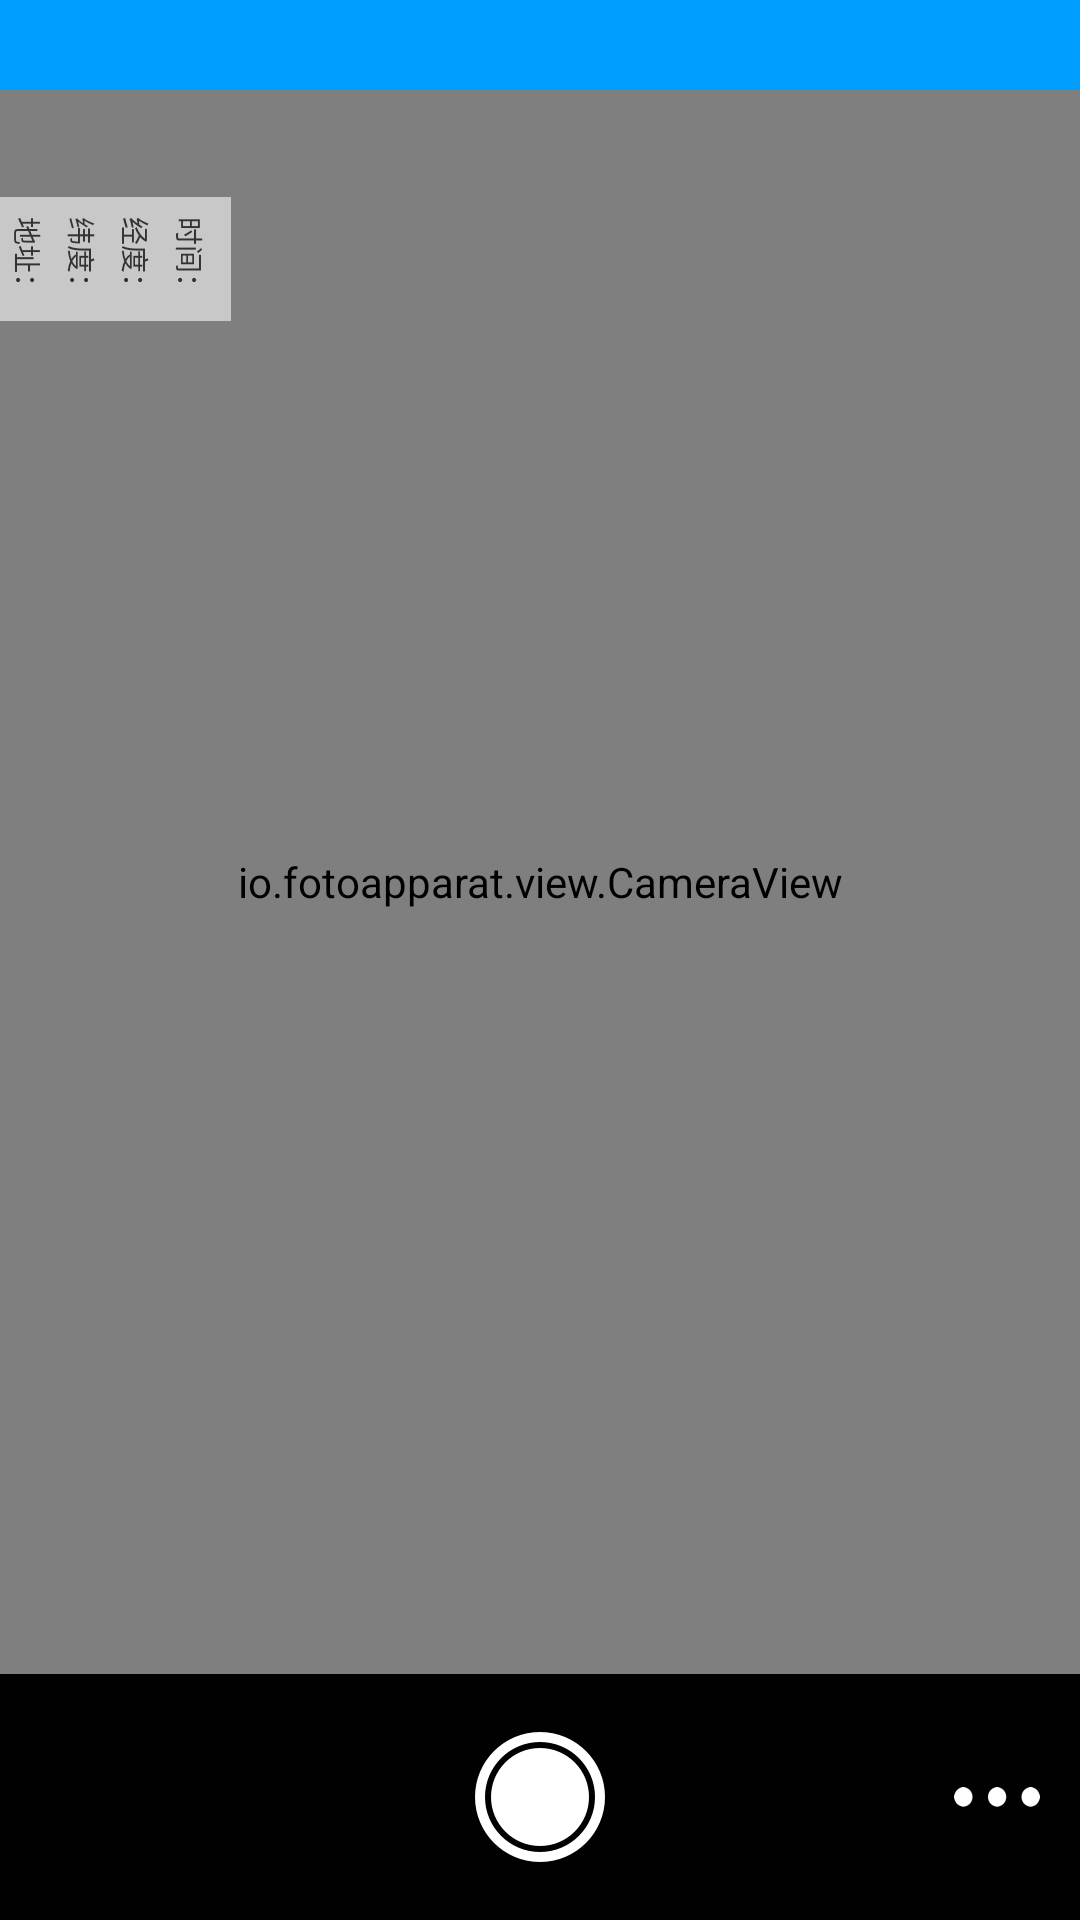

Icon bounding boxes for this 1080px x 1920px phone screenshot, format (x1, y1, x2, y2):
take pic: (475, 1732, 605, 1862)
